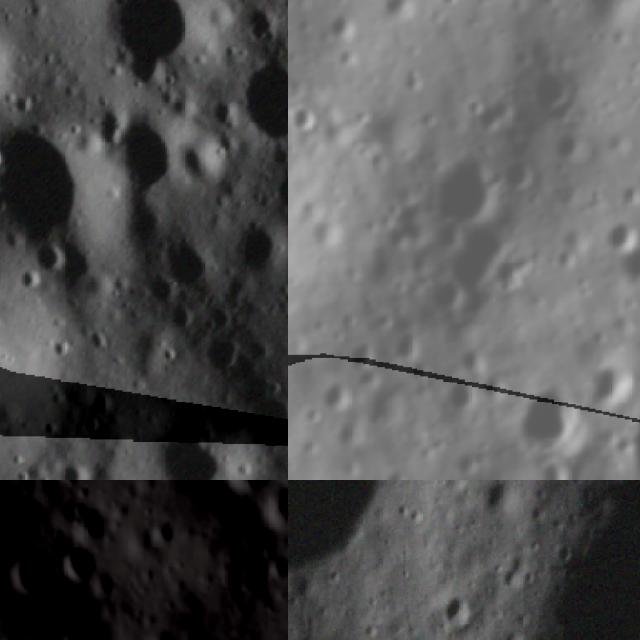crater: (0, 87, 134, 291), (86, 82, 225, 220), (71, 0, 239, 102), (0, 250, 64, 480), (431, 210, 523, 316), (211, 39, 288, 165), (133, 405, 254, 480), (142, 212, 226, 299), (429, 140, 498, 225), (217, 205, 288, 287), (230, 374, 288, 459), (510, 371, 570, 453), (164, 128, 236, 196), (20, 231, 82, 296), (527, 58, 584, 121), (5, 545, 58, 601), (591, 355, 639, 410), (433, 588, 476, 636), (314, 373, 359, 417), (259, 158, 288, 224), (47, 446, 103, 480), (438, 374, 482, 417), (498, 148, 536, 196), (596, 214, 640, 255), (387, 316, 424, 364), (61, 540, 98, 586), (322, 2, 358, 48), (549, 130, 591, 167), (260, 481, 288, 536), (288, 97, 325, 137), (335, 338, 375, 375), (378, 0, 421, 28), (217, 480, 273, 493)
